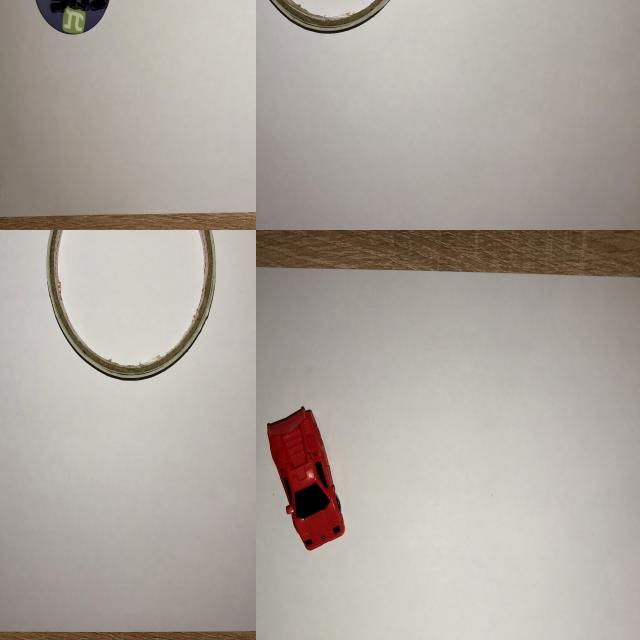car: (264, 403, 352, 557)
icon: (26, 0, 120, 42)
scotch: (43, 230, 219, 386)
